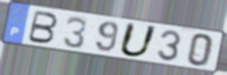0: (186, 32, 215, 68)
3: (156, 29, 183, 62), (63, 15, 87, 50)
9: (94, 20, 120, 53)
B: (26, 10, 60, 45)
U: (117, 21, 160, 59)
